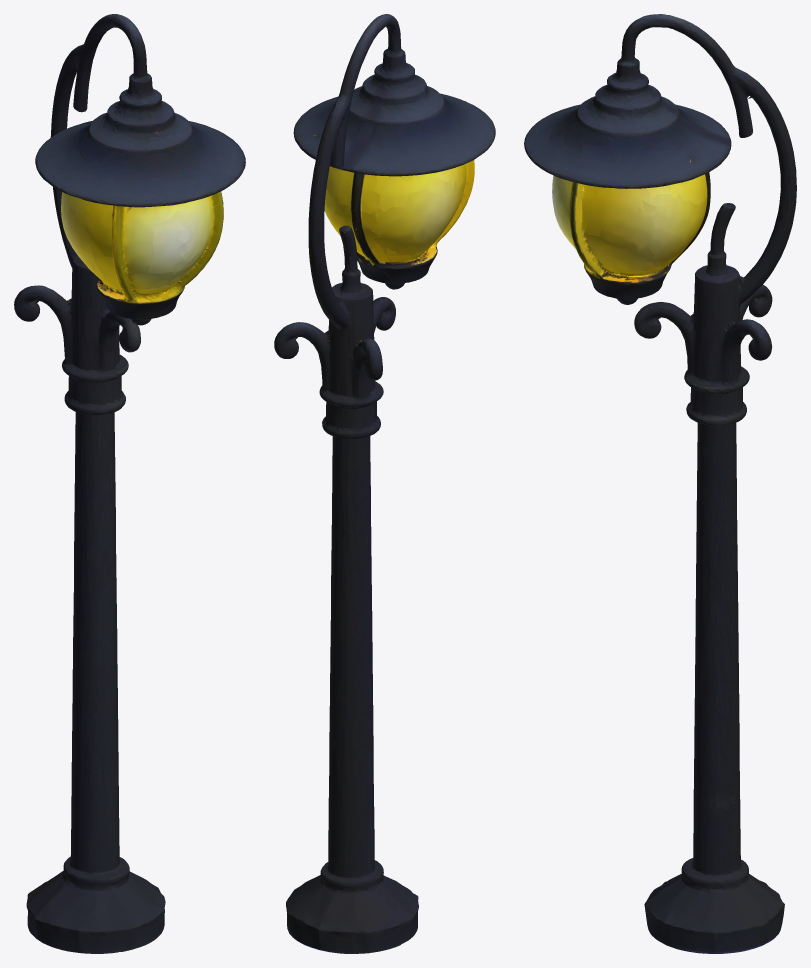
File: scn_streetlamp.glb
3 renders of one model, left to right at view 1: azimuth 30°, elevation 25°; view 2: azimuth 150°, elevation 25°; view 3: azimuth 270°, elevation 25°, orthographic. The views are drawn at different scales.
Size of the model in its own units: 0.39 by 1.9 by 0.5152.
Materials: 1 (1 with a texture image).
